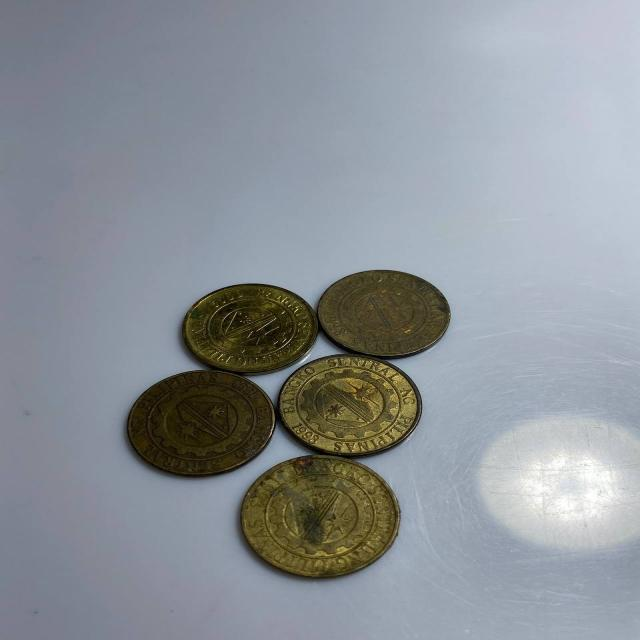25Cent_Old_Back: (238, 460, 402, 576), (280, 350, 417, 456), (130, 372, 270, 472), (173, 277, 320, 370), (317, 270, 453, 355)
